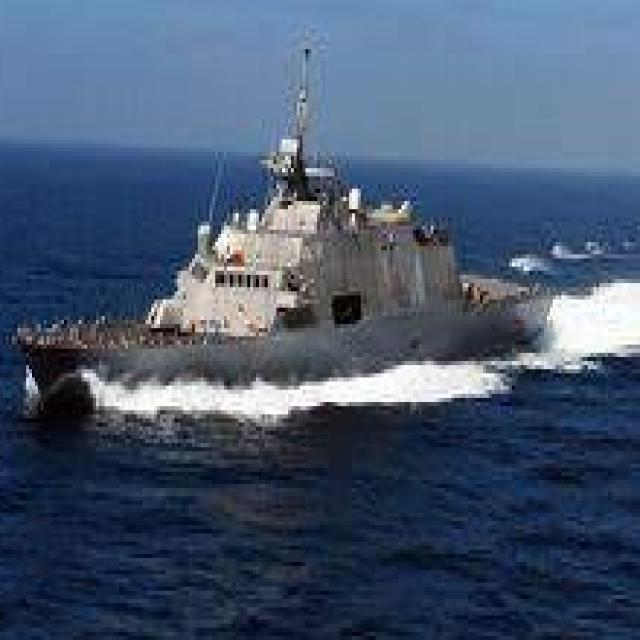navalvessels: (10, 63, 574, 425)
